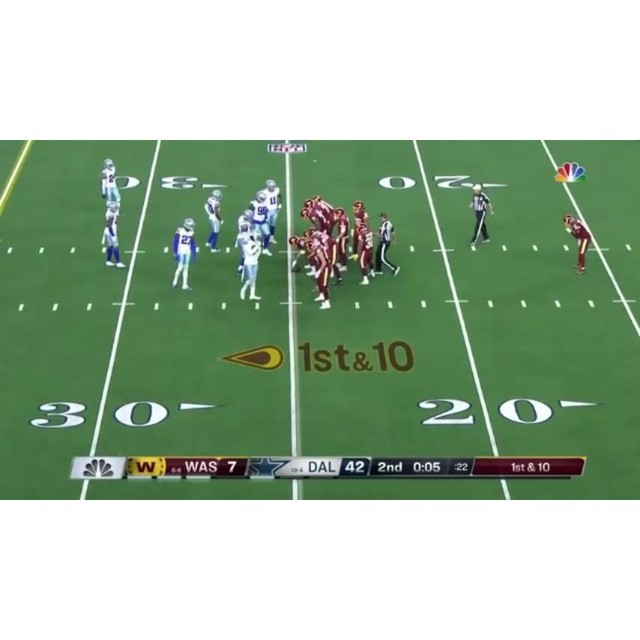american-football-player: (169, 218, 197, 292), (304, 237, 332, 309), (236, 229, 263, 302), (563, 213, 591, 276), (258, 179, 283, 246), (100, 202, 125, 268), (249, 193, 274, 255), (202, 190, 224, 251), (101, 158, 123, 205), (301, 203, 331, 234)
referee: (468, 183, 495, 250), (376, 212, 401, 277)
